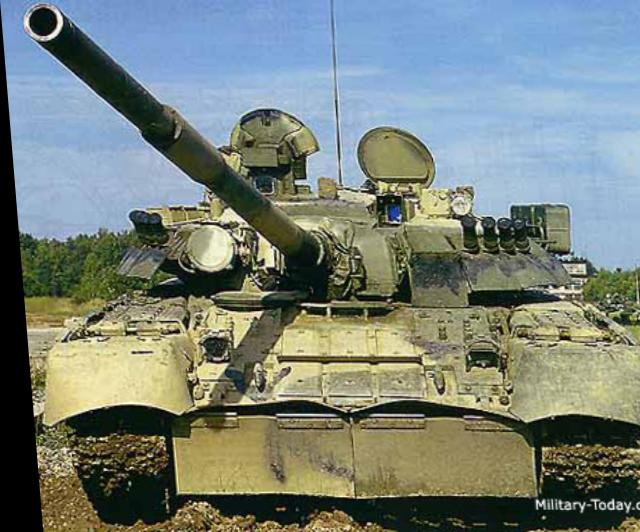tank: (33, 112, 640, 514), (590, 292, 635, 320)
